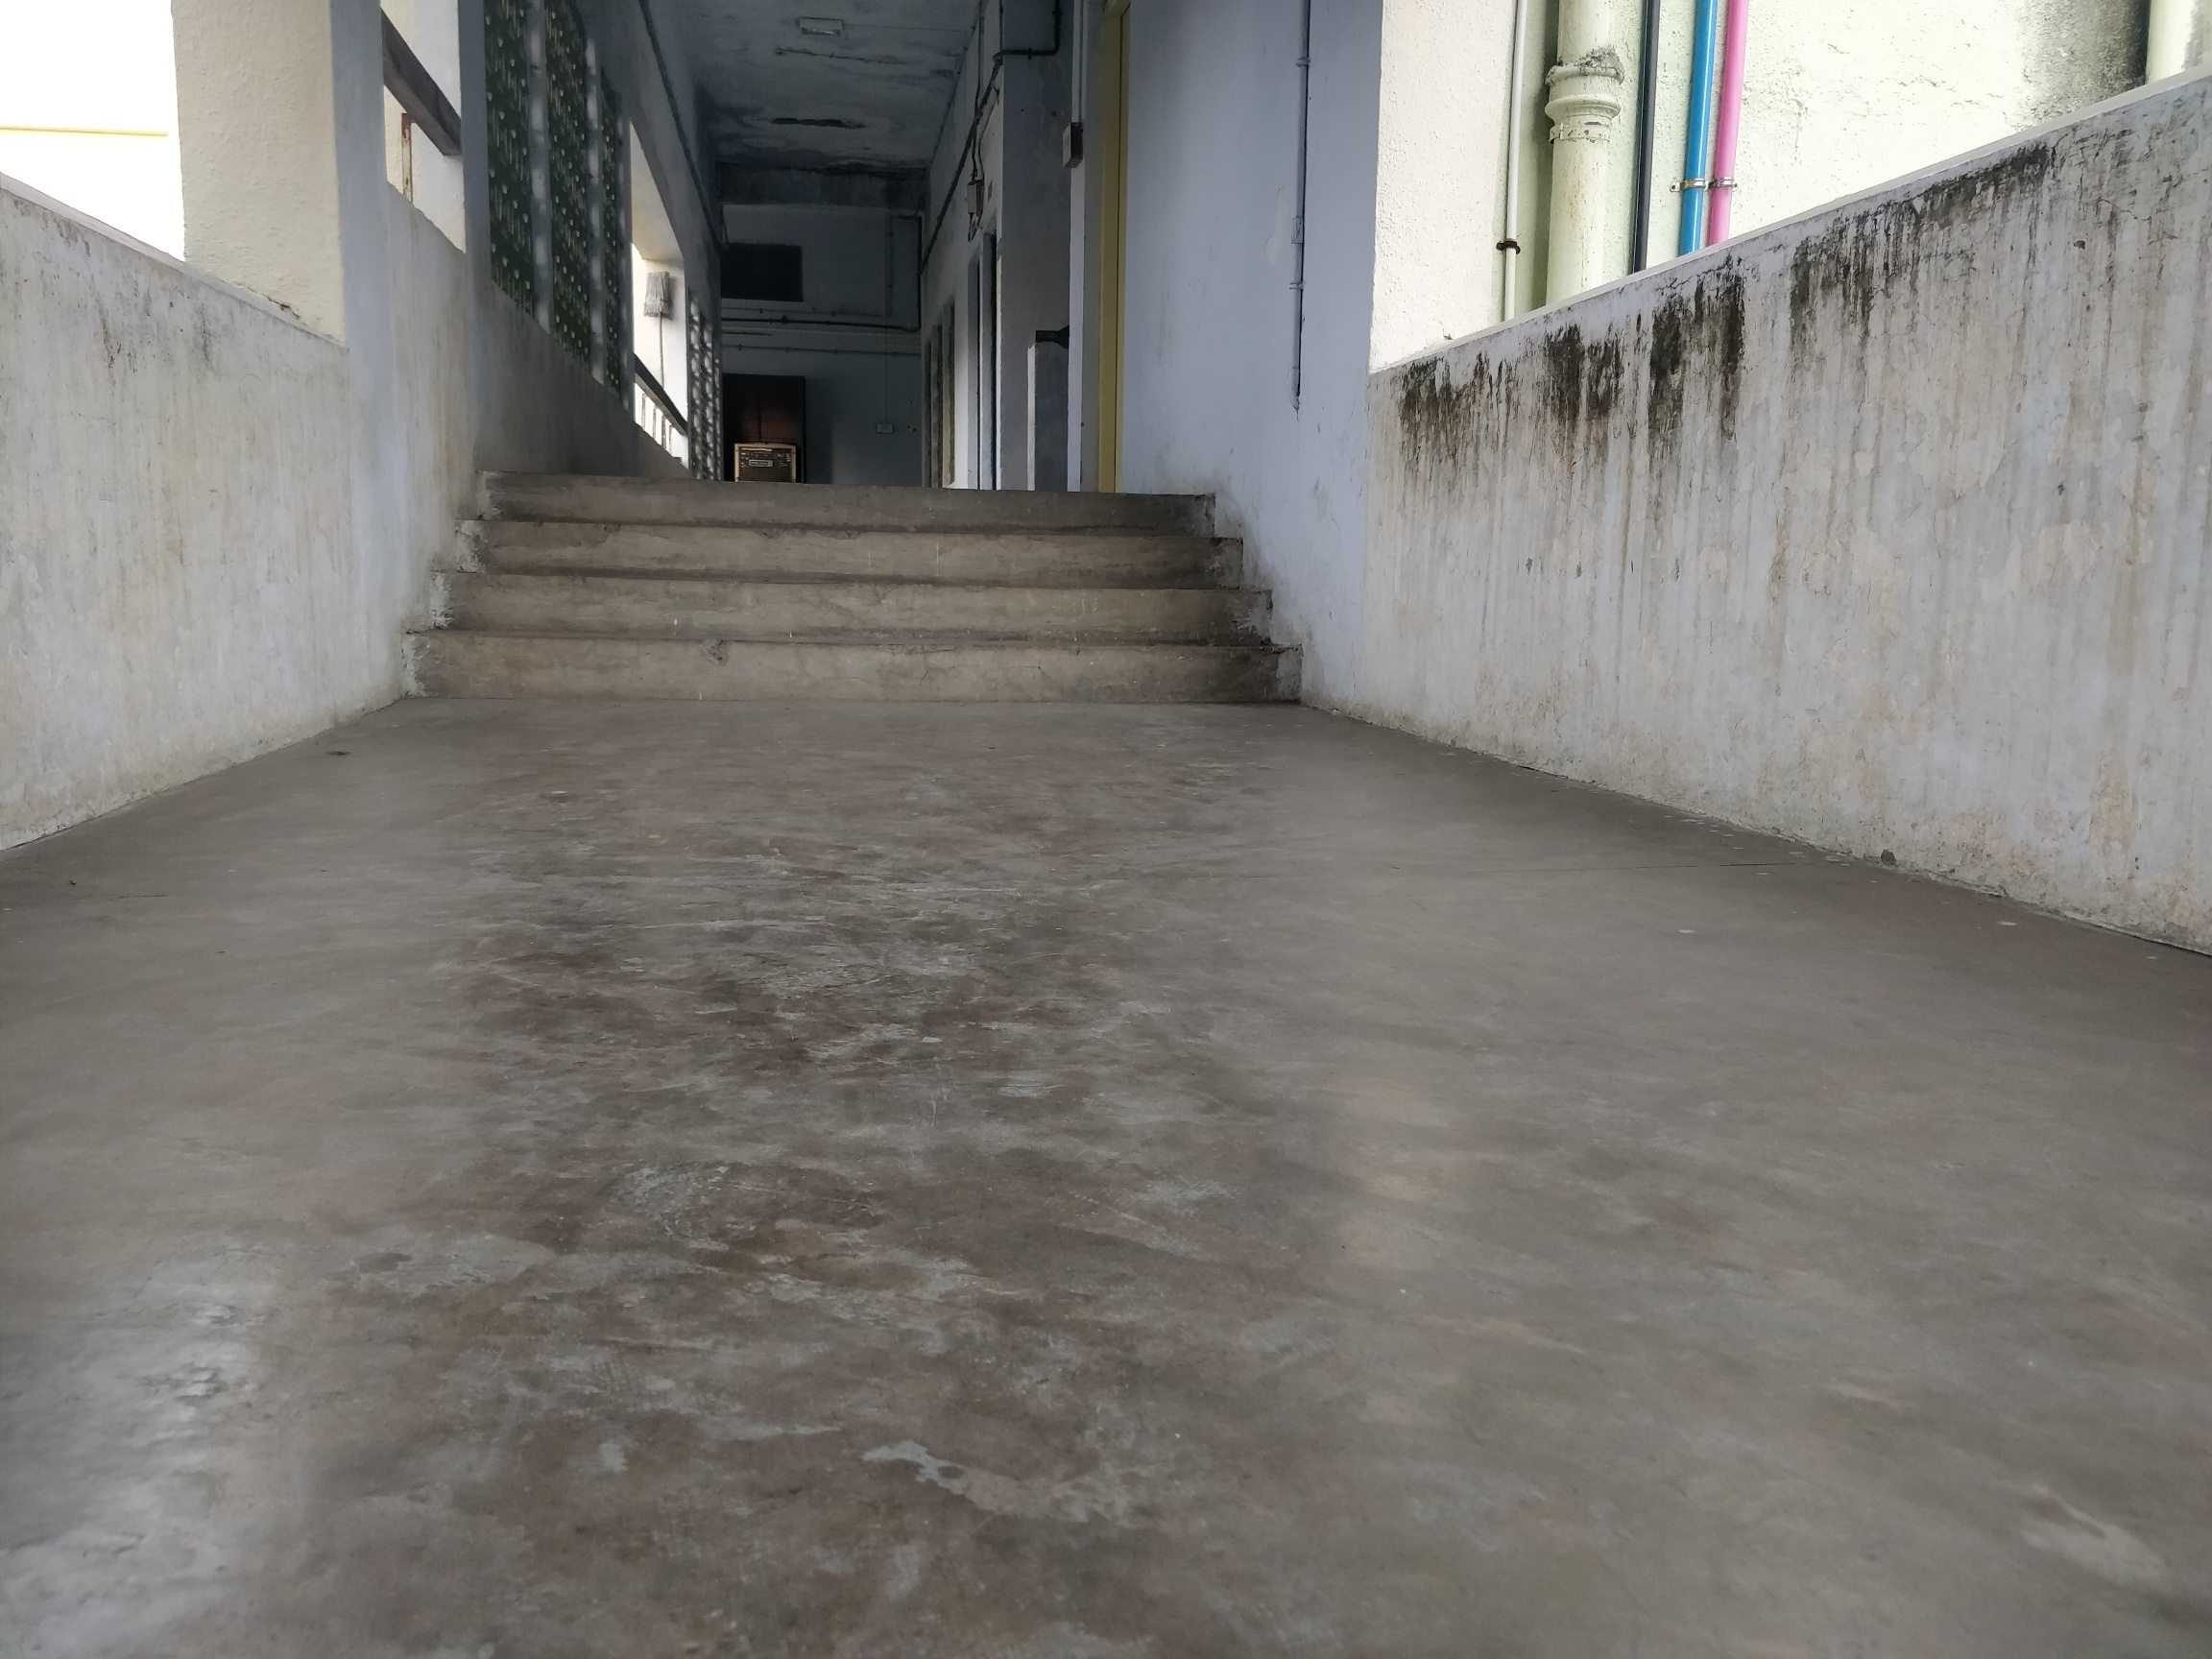stairs_up: (388, 455, 1303, 716)
